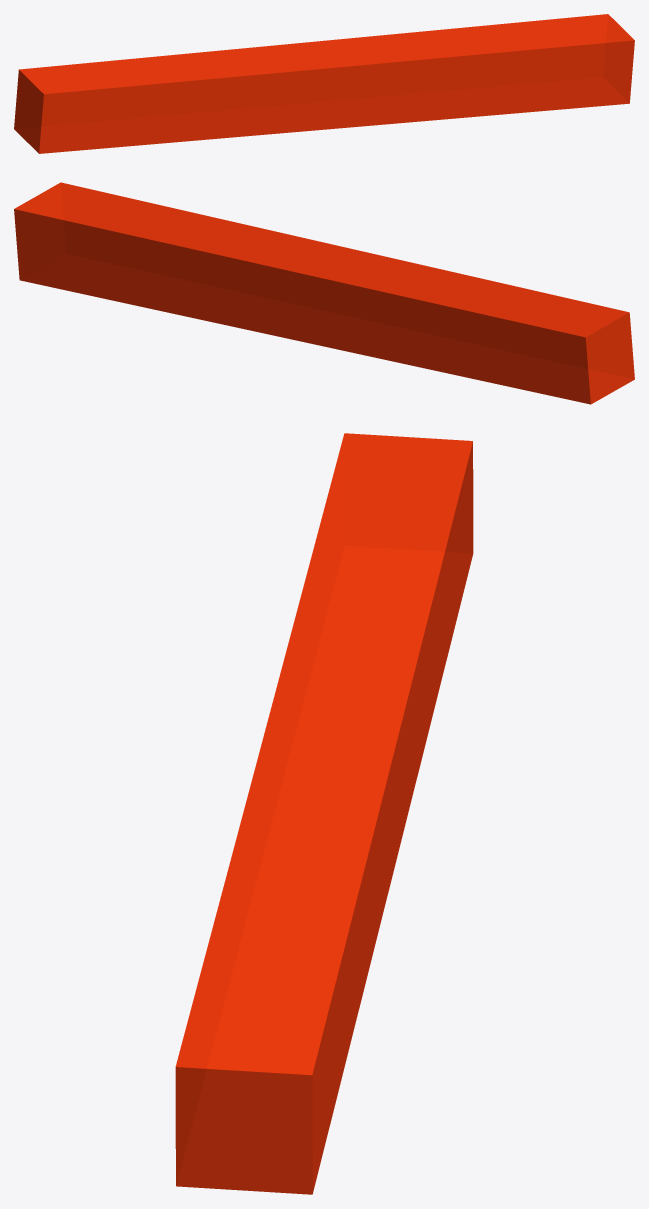
The model's file is Event_421127236_EErechit_49.fbx.
The picture shows the model from 3 angles, top to bottom: view 1: azimuth 30°, elevation 25°; view 2: azimuth 150°, elevation 25°; view 3: azimuth 270°, elevation 25°; orthographic projection. The views are drawn at different scales.
Parts seen in each view (by area): view 1: Model; view 2: Model; view 3: Model.
Part boxes in pixels (x1,y1,x2,y2): Model: [14, 14, 634, 153]; Model: [14, 182, 634, 404]; Model: [175, 433, 473, 1194].
Bounding box in the file's own units: 0.7247 × 0.138 × 0.1666.
